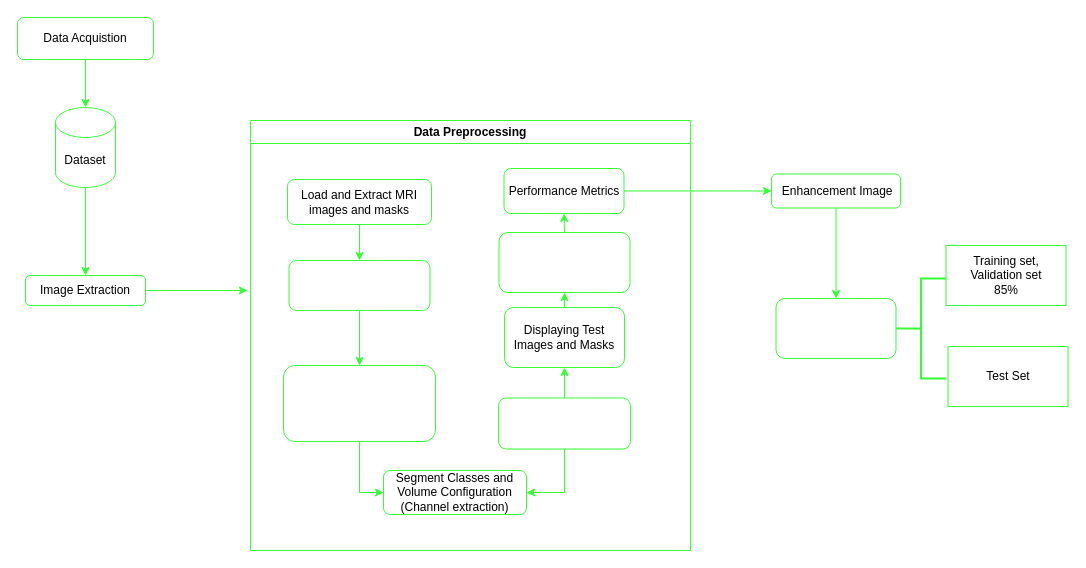
This 1086x568 diagram has some shape labels left out. Each missing label, with the centre of its shape:
"Data Partitioning" belongs at [835,328].
"Displaying Transformed Images and Masks" belongs at [564,262].
"Loading Test Images and Masks" belongs at [564,423].
"Rotate,resize and Display images and masks ( Resizing, Normalization, Cropping)" belongs at [359,403].
"Visualizing Brain Images and Masks" belongs at [359,285].
